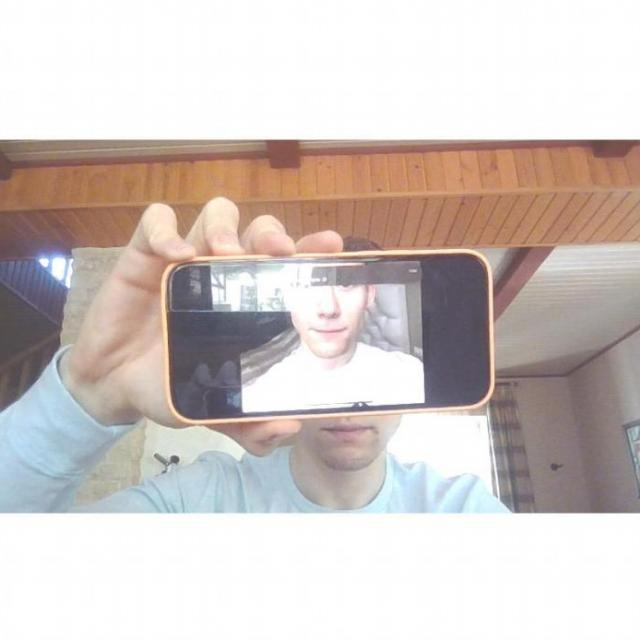device: (163, 251, 496, 415)
